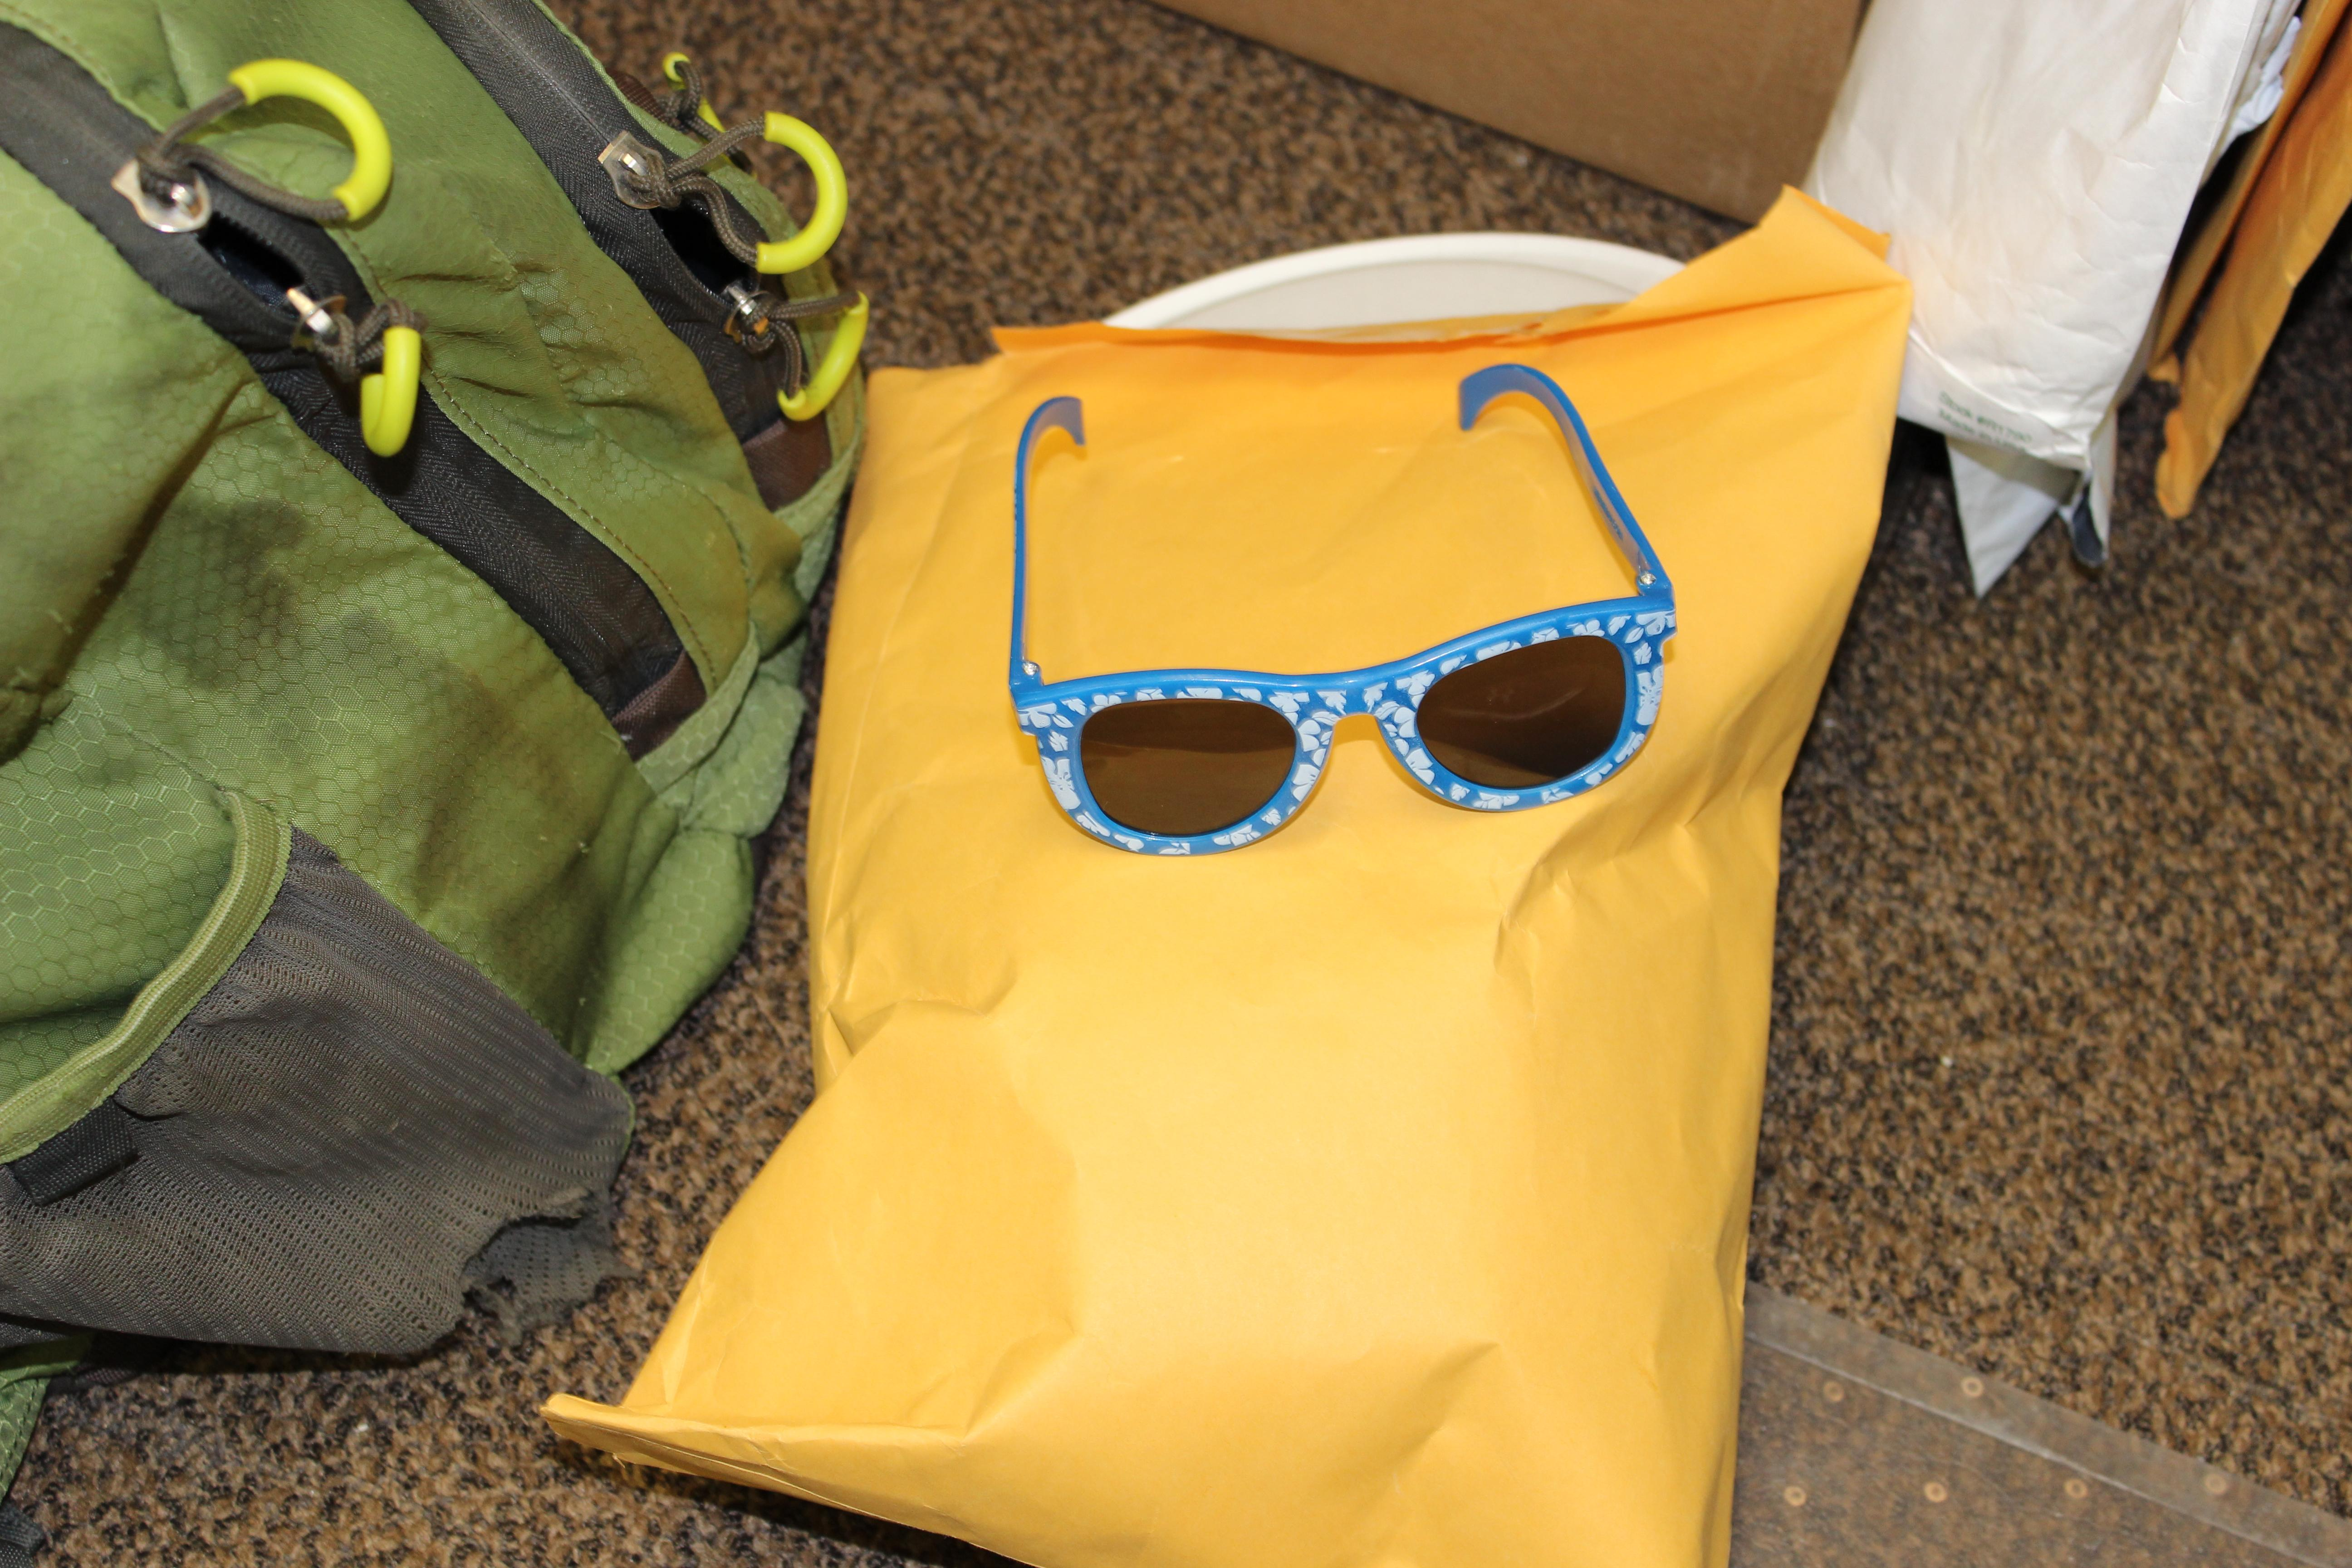blueSunglasses: (955, 350, 1771, 875)
